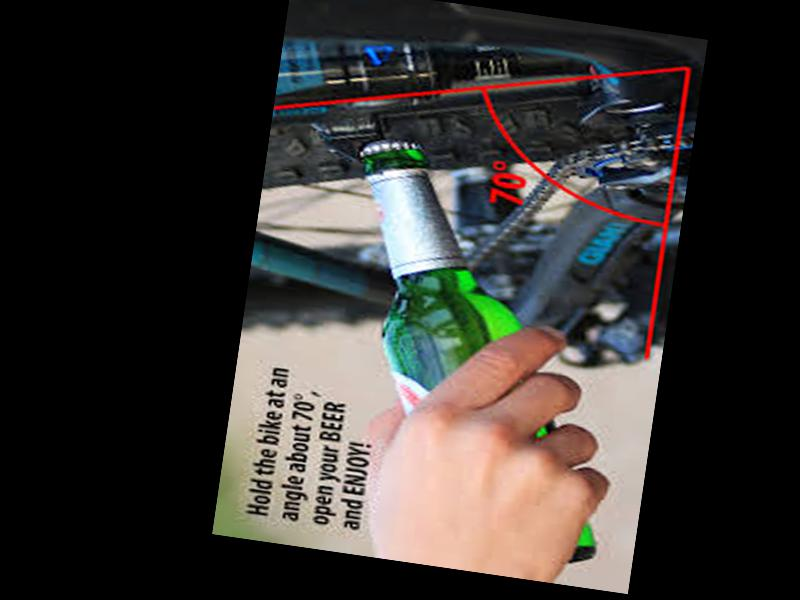Beer: (307, 129, 651, 568)
